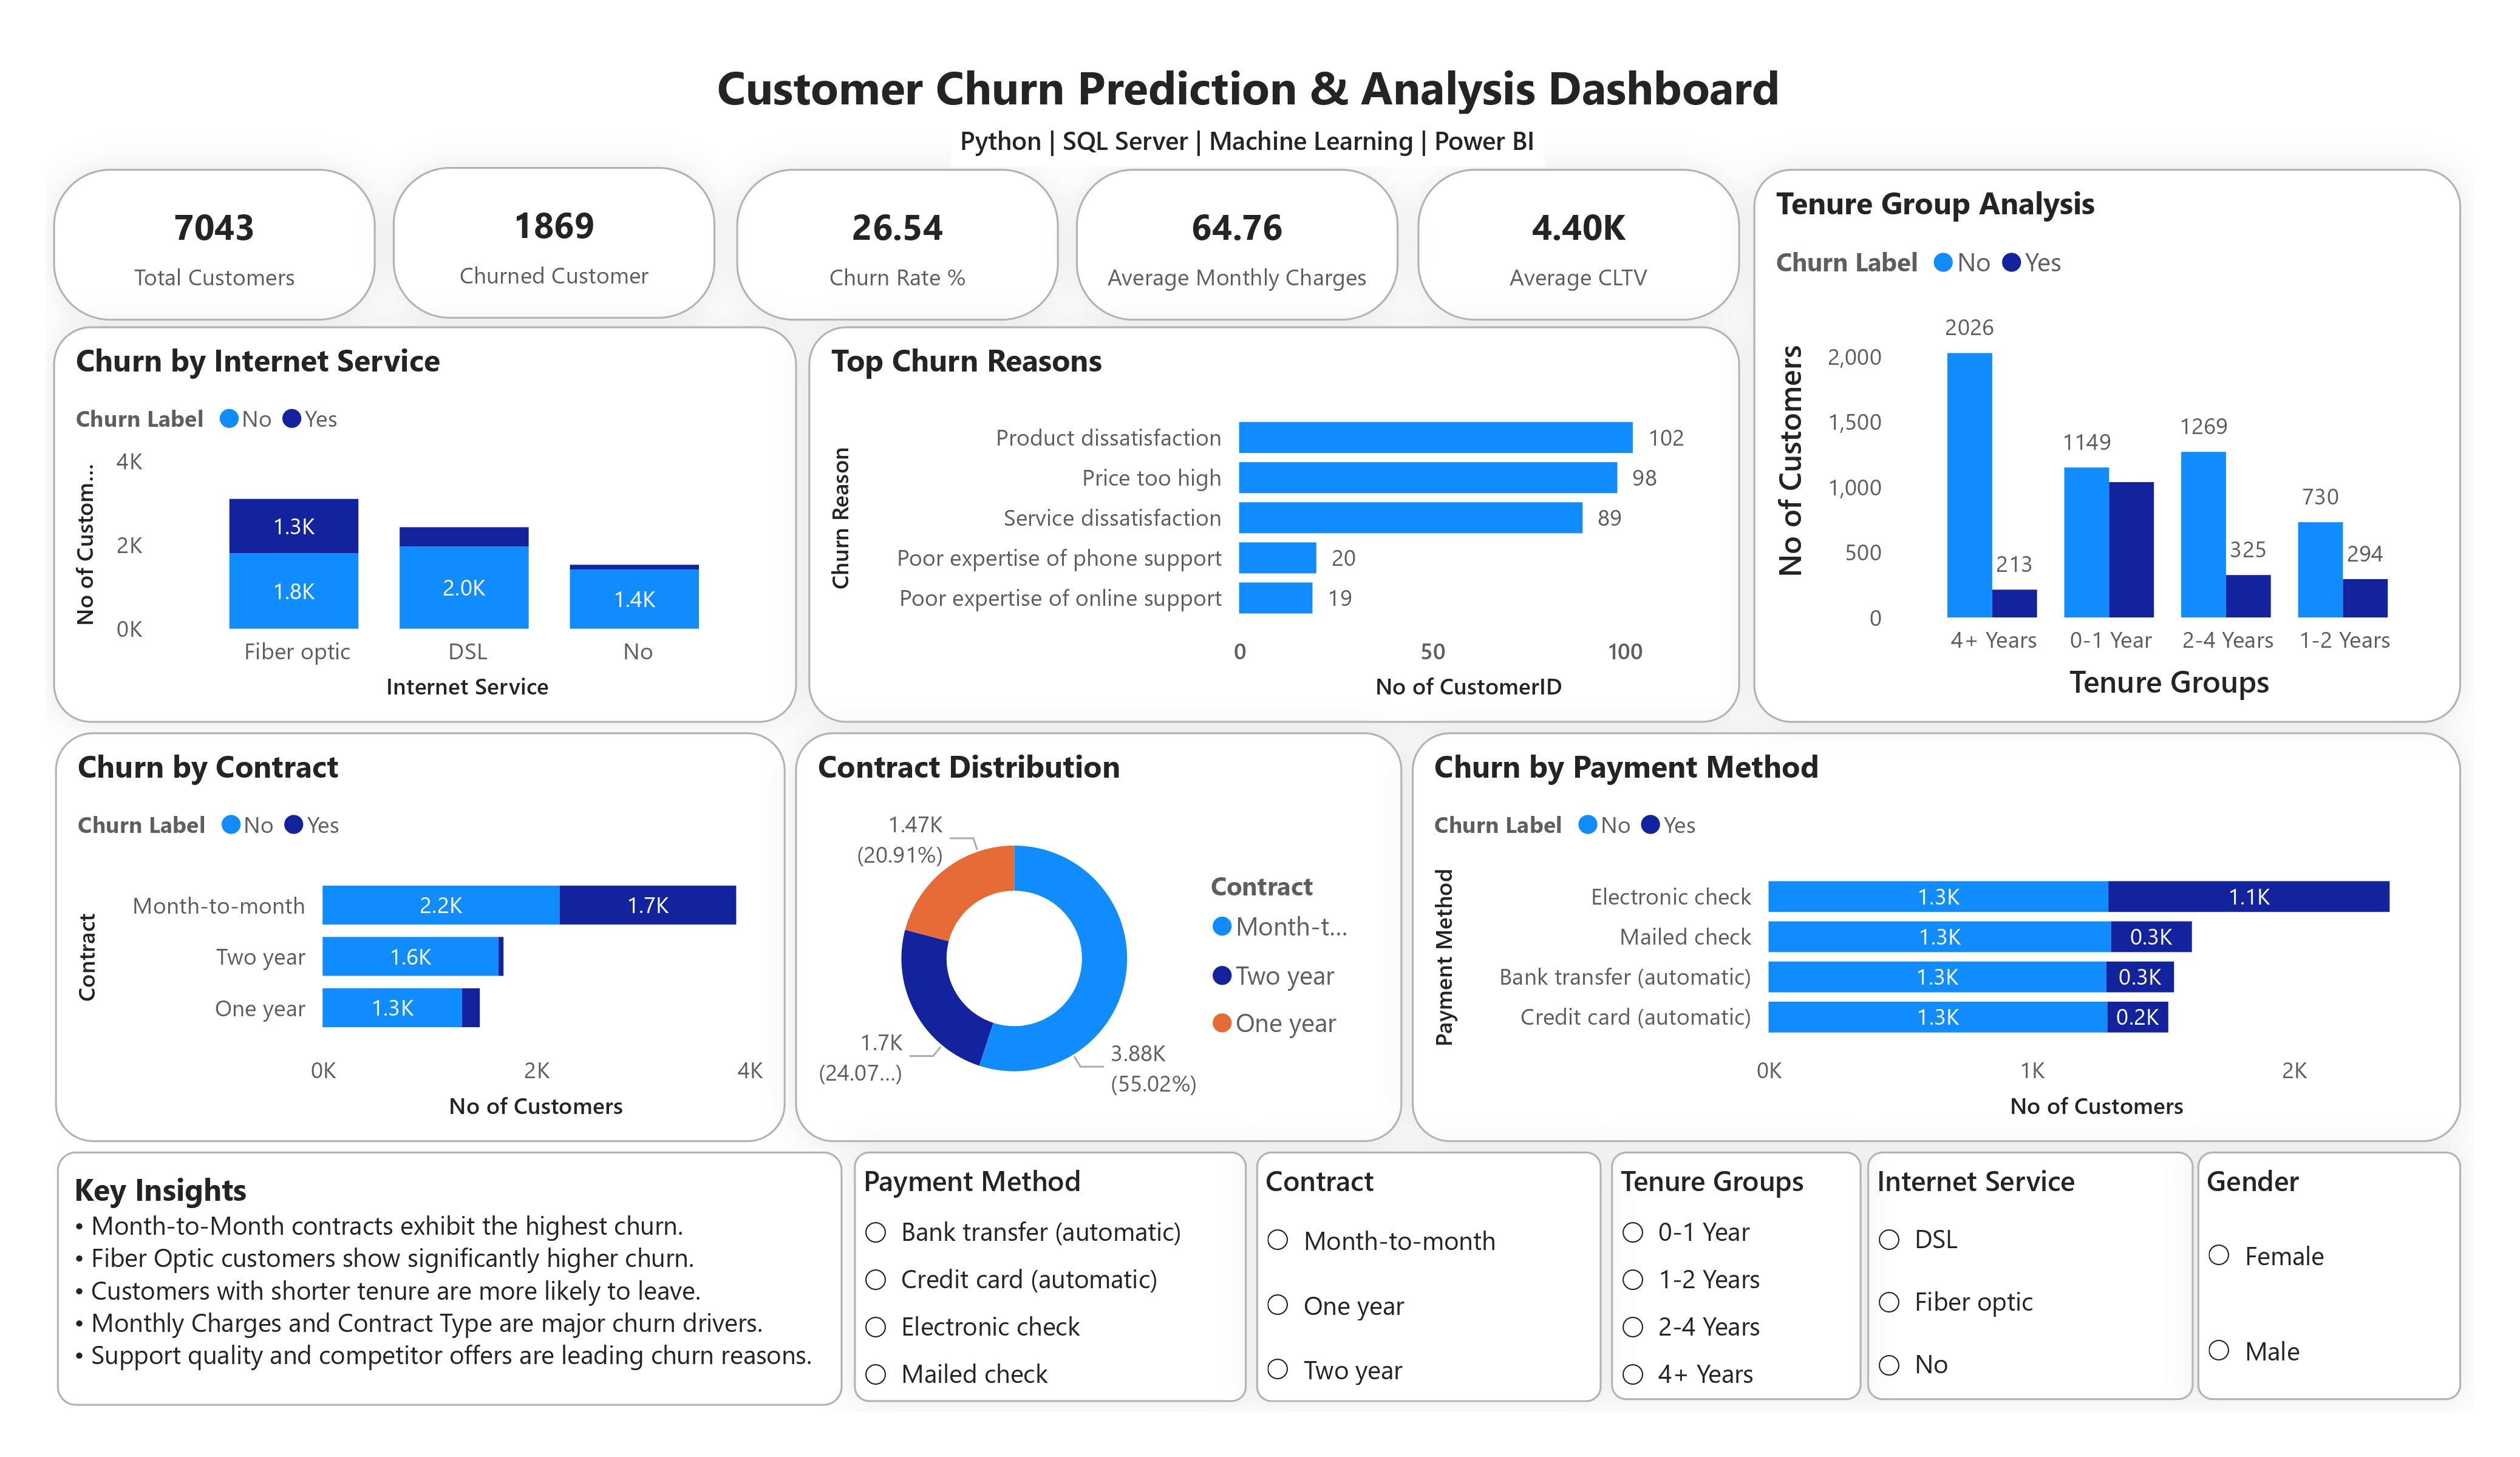

This screenshot's page, from the dashboard's own definition file:
{"tool":"powerbi","page":{"name":"Page 1","canvas":[1280,720],"ordinal":0},"visuals":[{"type":"card","fields":{"Values":["CountNonNull(Telco_Churn.CustomerID)"]},"box":[3.6,65.1,170.1,79.6],"z":0},{"type":"card","fields":{"Values":["Telco_Churn.Churn Rate %"]},"box":[364.3,65.1,170.1,79.6],"z":1000},{"type":"card","fields":{"Values":["Avg(Telco_Churn.CLTV)"]},"box":[722.7,65.1,170.1,79.6],"z":2000},{"type":"card","fields":{"Values":["Telco_Churn.Churned Customer"]},"box":[183.4,63.9,170.1,79.6],"z":3000},{"type":"card","fields":{"Values":["Avg(Telco_Churn.Monthly Charges)"]},"box":[542.9,65.1,170.1,79.6],"z":4000},{"type":"columnChart","title":"Churn by Internet Service","fields":{"Series":["Telco_Churn.Churn Label"],"Category":["Telco_Churn.Internet Service"],"Y":["CountNonNull(Telco_Churn.CustomerID)"]},"box":[4,148,392,209],"z":5000},{"type":"clusteredBarChart","title":"Top Churn Reasons","fields":{"Category":["Telco_Churn.Churn Reason"],"Y":["CountNonNull(Telco_Churn.CustomerID)"]},"box":[401.7,148.4,491,208.7],"z":6000},{"type":"barChart","title":"Churn by Contract ","fields":{"Category":["Telco_Churn.Contract"],"Y":["Count(Telco_Churn.CustomerID)"],"Series":["Telco_Churn.Churn Label"]},"box":[4.8,361.9,384.9,216],"z":7000},{"type":"donutChart","title":"Contract Distribution","fields":{"Y":["CountNonNull(Telco_Churn.CustomerID)"],"Category":["Telco_Churn.Contract"]},"box":[394.5,361.9,320.9,216],"z":8000},{"type":"barChart","title":"Churn by Payment Method","fields":{"Category":["Telco_Churn.Payment Method"],"Y":["CountNonNull(Telco_Churn.CustomerID)"],"Series":["Telco_Churn.Churn Label"]},"box":[720.2,361.9,552.5,216],"z":9000},{"type":"clusteredColumnChart","title":"Tenure Group Analysis","fields":{"Category":["Telco_Churn.Tenure Groups"],"Y":["CountNonNull(Telco_Churn.CustomerID)"],"Series":["Telco_Churn.Churn Label"]},"box":[900,65.1,372.8,292],"z":10000},{"type":"listSlicer","fields":{"Values":["Telco_Churn.Internet Service"]},"box":[960.3,582.7,171.3,131.5],"z":11000},{"type":"listSlicer","fields":{"Values":["Telco_Churn.Gender"]},"box":[1134.1,582.7,138.7,131.5],"z":12000},{"type":"listSlicer","fields":{"Values":["Telco_Churn.Payment Method"]},"box":[425.9,582.7,207.5,132.7],"z":13000},{"type":"listSlicer","fields":{"Values":["Telco_Churn.Tenure Groups"]},"box":[825.2,582.7,132,131.5],"z":14000},{"type":"listSlicer","fields":{"Values":["Telco_Churn.Contract"]},"box":[638.2,582.7,182.2,132],"z":15000},{"type":"textbox","box":[6,582.7,413.8,133.9],"z":16000},{"type":"textbox","box":[348.7,0,581.5,42.2],"z":17000},{"type":"textbox","box":[476.5,36.2,313.7,27.7],"z":18000}]}

Visuals, with their boxes on the page's 1280x720 design canvas (x1, y1, x2, y2). These are canvas units, not pixel positions in the 2520x1457 screenshot, which may show the page scaled, cropped or inside an application window:
card - CountNonNull(Telco_Churn.CustomerID): [left=4, top=65, right=174, bottom=145]
card - Telco_Churn.Churn Rate %: [left=364, top=65, right=534, bottom=145]
card - Avg(Telco_Churn.CLTV): [left=723, top=65, right=893, bottom=145]
card - Telco_Churn.Churned Customer: [left=183, top=64, right=354, bottom=144]
card - Avg(Telco_Churn.Monthly Charges): [left=543, top=65, right=713, bottom=145]
"Churn by Internet Service" columnChart: [left=4, top=148, right=396, bottom=357]
"Top Churn Reasons" clusteredBarChart: [left=402, top=148, right=893, bottom=357]
"Churn by Contract " barChart: [left=5, top=362, right=390, bottom=578]
"Contract Distribution" donutChart: [left=394, top=362, right=715, bottom=578]
"Churn by Payment Method" barChart: [left=720, top=362, right=1273, bottom=578]
"Tenure Group Analysis" clusteredColumnChart: [left=900, top=65, right=1273, bottom=357]
listSlicer - Telco_Churn.Internet Service: [left=960, top=583, right=1132, bottom=714]
listSlicer - Telco_Churn.Gender: [left=1134, top=583, right=1273, bottom=714]
listSlicer - Telco_Churn.Payment Method: [left=426, top=583, right=633, bottom=715]
listSlicer - Telco_Churn.Tenure Groups: [left=825, top=583, right=957, bottom=714]
listSlicer - Telco_Churn.Contract: [left=638, top=583, right=820, bottom=715]
textbox: [left=6, top=583, right=420, bottom=717]
textbox: [left=349, top=0, right=930, bottom=42]
textbox: [left=476, top=36, right=790, bottom=64]
